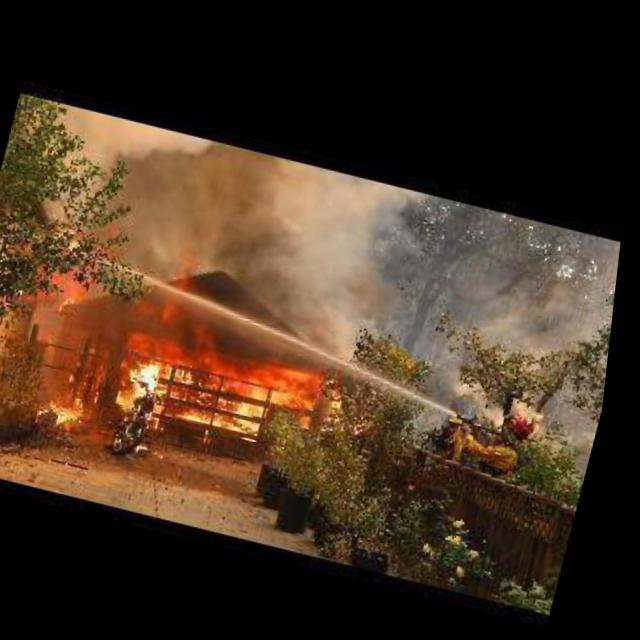Fire: (117, 118, 448, 329), (51, 296, 362, 492)
